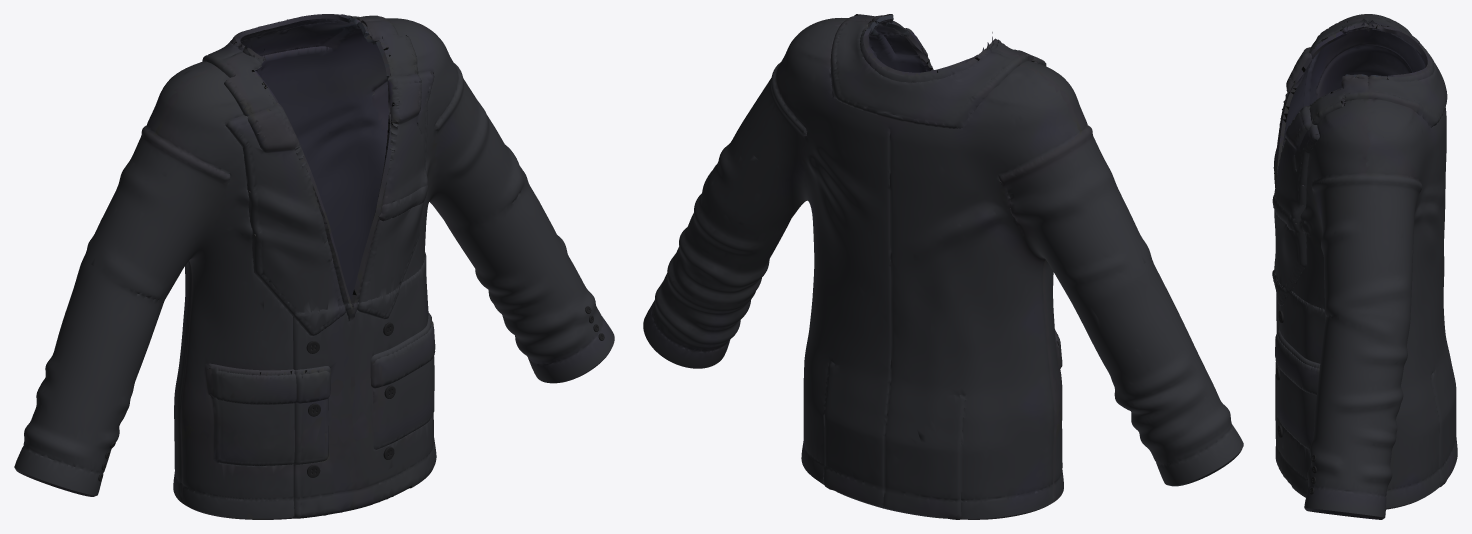
The model's file is 02_americana_cruzada_pbr.glb.
3 views of the same model, side by side, from view 1: azimuth 30°, elevation 25°; view 2: azimuth 150°, elevation 25°; view 3: azimuth 270°, elevation 25° (orthographic). The views are drawn at different scales.
Parts seen in each view (by area): view 1: Camiseta PBR, Botones; view 2: Camiseta PBR; view 3: Camiseta PBR, Botones.
Boxes of the visible parts, bbox=[...] form: Camiseta PBR: bbox=[14, 14, 614, 519]; Botones: bbox=[98, 306, 604, 481]; Camiseta PBR: bbox=[643, 14, 1243, 519]; Camiseta PBR: bbox=[1272, 14, 1457, 519]; Botones: bbox=[1275, 310, 1316, 494].
Bounding box in the file's own units: 1.04 × 0.7592 × 0.308.
2 materials, 1 textured.
